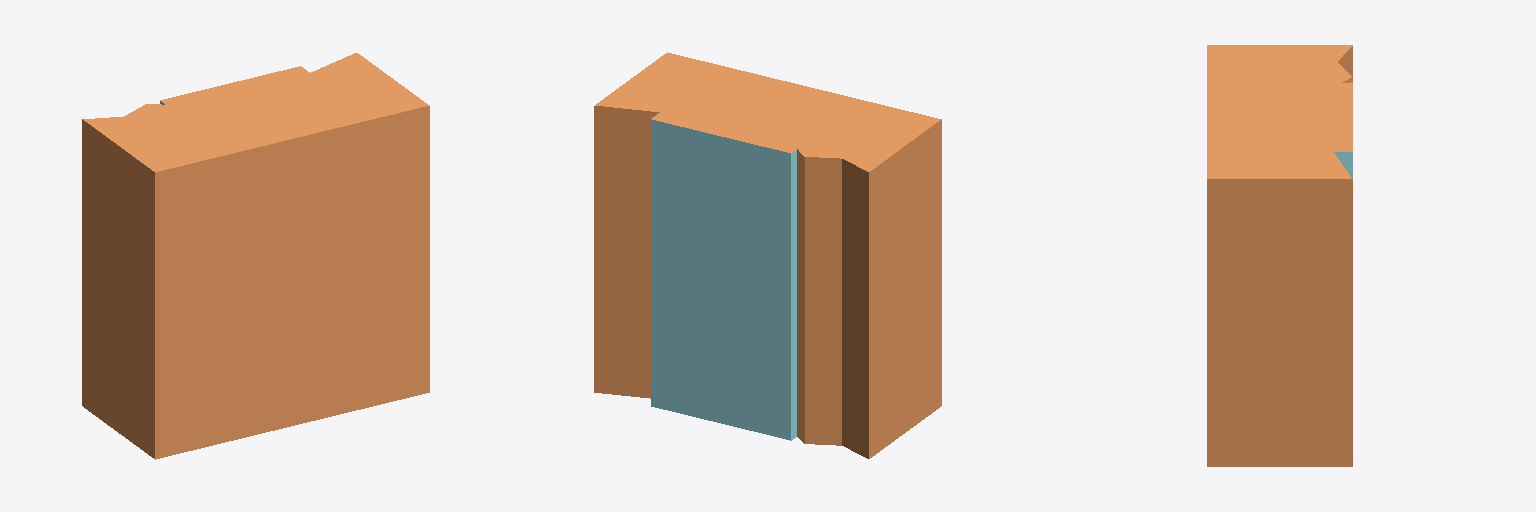
The model's file is cliffBrown_waterfallMid.obj.
3 views of the same model, side by side, from view 1: azimuth 30°, elevation 25°; view 2: azimuth 150°, elevation 25°; view 3: azimuth 270°, elevation 25° (orthographic).
Visible parts, largest first — view 1: cliffBrown_waterfallMid; view 2: cliffBrown_waterfallMid; view 3: cliffBrown_waterfallMid.
Boxes of the visible parts, x1,y1,x2,y2 form: cliffBrown_waterfallMid: [82, 53, 429, 459]; cliffBrown_waterfallMid: [594, 52, 941, 458]; cliffBrown_waterfallMid: [1207, 45, 1352, 466].
Size of the model in its own units: 10 by 10 by 4.58.